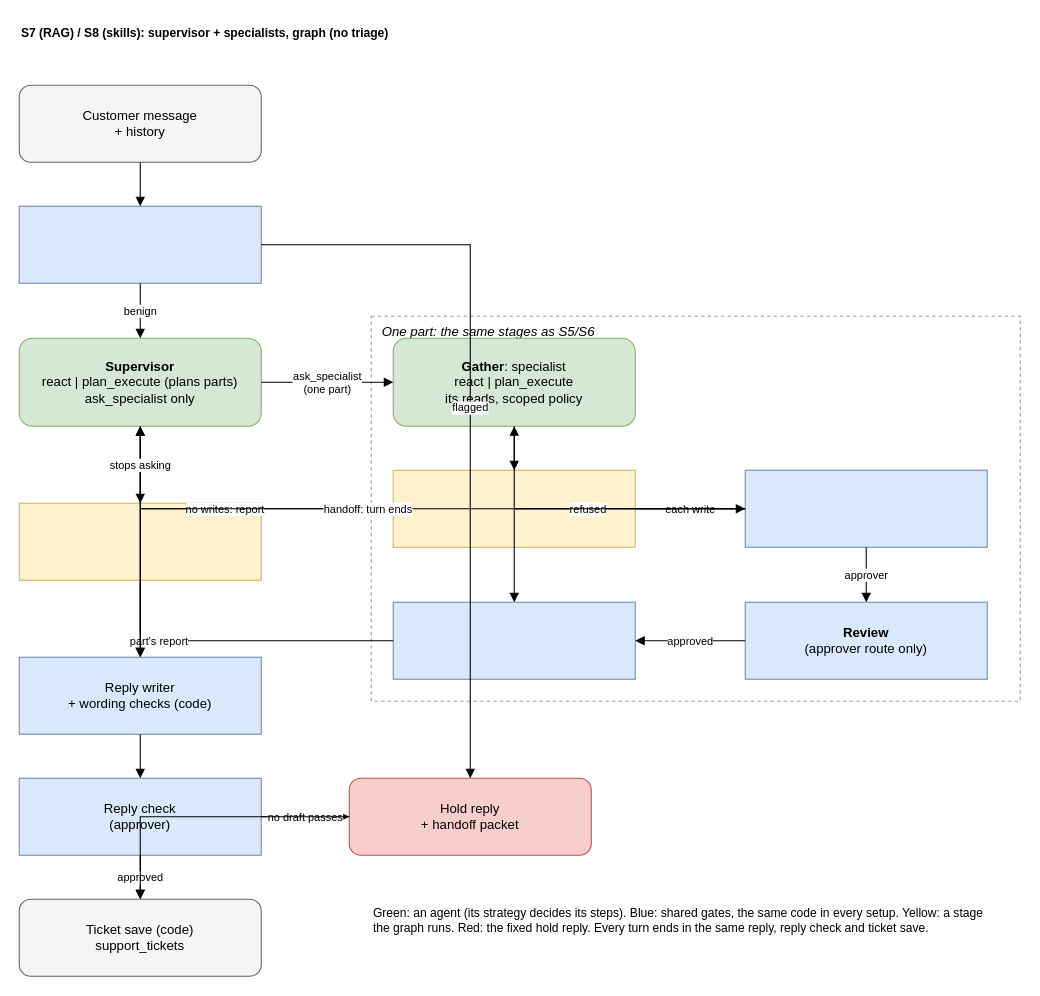
The diagram is 1040 pixels wide and 996 high, and some of its shapes have lost their labels. The box of each missing label's shape, as (x1, y1, x2, y2) in pixels:
Guard (Prompt Guard): (18, 205, 261, 283)
Propose (structured): (392, 469, 635, 547)
Rule check (write gate): (744, 469, 987, 547)
Strictest outcome of the parts: (18, 502, 261, 580)
Write (executor): (392, 601, 635, 679)
